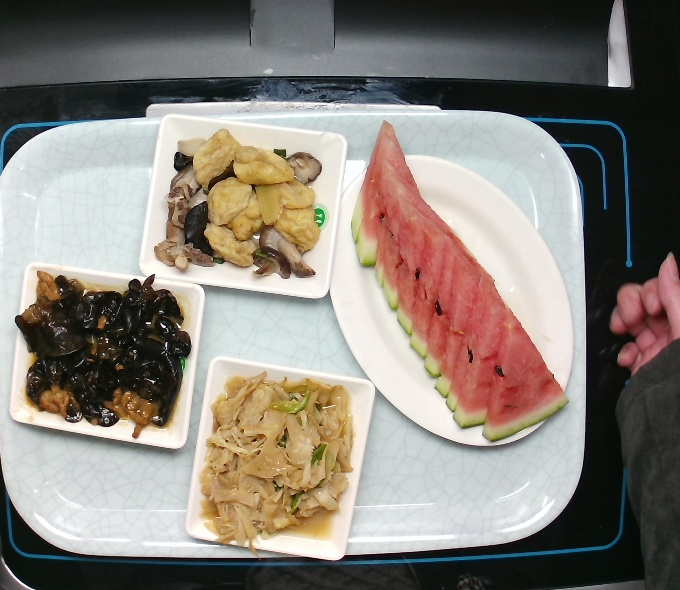wcq-LuSun: (194, 367, 362, 558)
wcq-MuErChaoRou: (10, 265, 196, 445)
wcq-XiGua: (348, 116, 575, 444)
wcq-YouPaoPaiGu: (148, 124, 335, 289)
